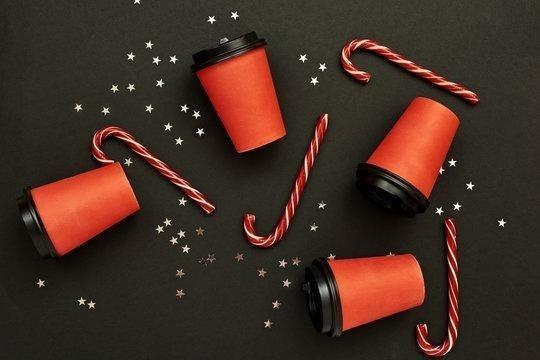cup-disposable: (356, 95, 461, 221), (17, 159, 140, 261), (189, 29, 287, 155), (299, 252, 427, 342)
